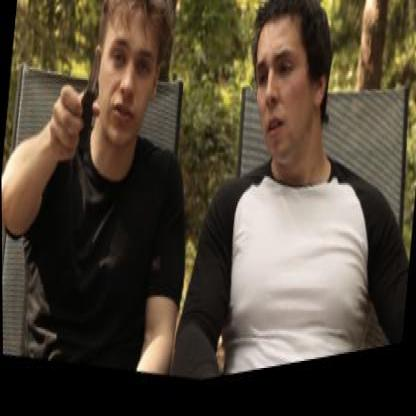knife: (67, 38, 103, 142)
